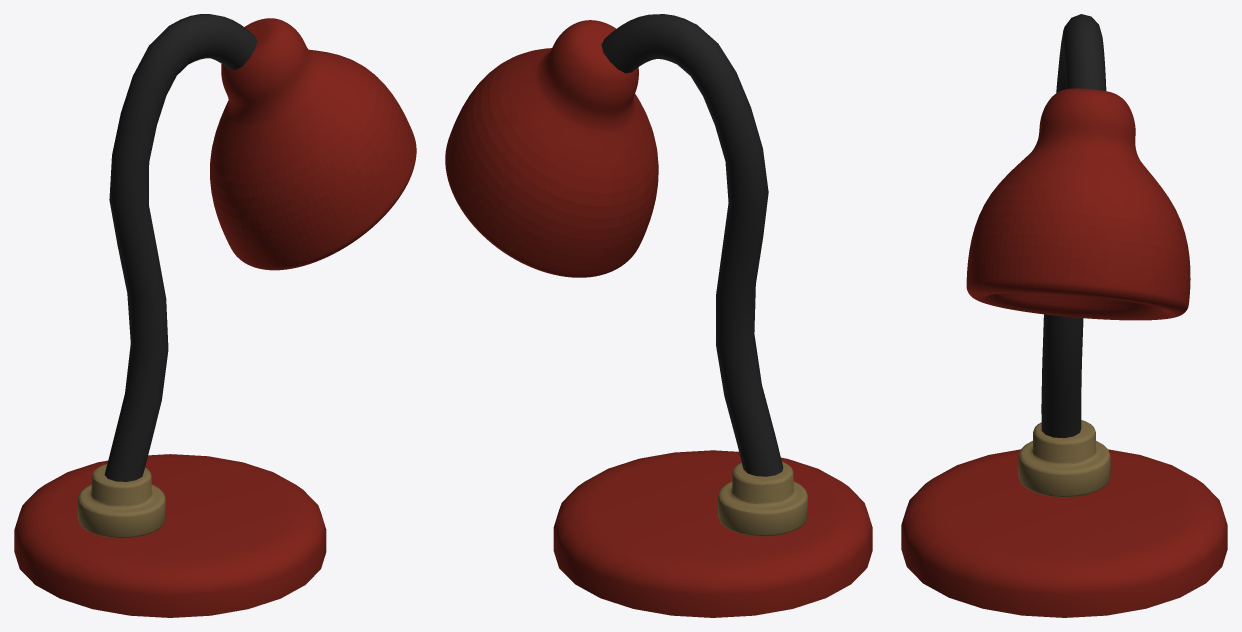
File: stand.fbx
3 renders of one model, left to right at view 1: azimuth 30°, elevation 25°; view 2: azimuth 150°, elevation 25°; view 3: azimuth 270°, elevation 25°, orthographic. The views are drawn at different scales.
Parts seen in each view (by area): view 1: Circle.001, Circle, BezierCurve, Circle.002; view 2: Circle.001, Circle, BezierCurve, Circle.002; view 3: Circle, Circle.001, BezierCurve, Circle.002.
Part boxes in pixels (bbox=[...]): Circle.001: bbox=[210, 18, 416, 270]; Circle: bbox=[14, 454, 326, 617]; BezierCurve: bbox=[104, 14, 257, 481]; Circle.002: bbox=[77, 464, 165, 538]; Circle.001: bbox=[445, 20, 658, 277]; Circle: bbox=[553, 450, 872, 617]; BezierCurve: bbox=[601, 14, 783, 476]; Circle.002: bbox=[718, 462, 807, 536]; Circle: bbox=[901, 449, 1227, 617]; Circle.001: bbox=[966, 88, 1190, 320]; BezierCurve: bbox=[1041, 14, 1106, 437]; Circle.002: bbox=[1018, 420, 1110, 497].
Bounding box in the file's own units: 337 × 450 × 244.
